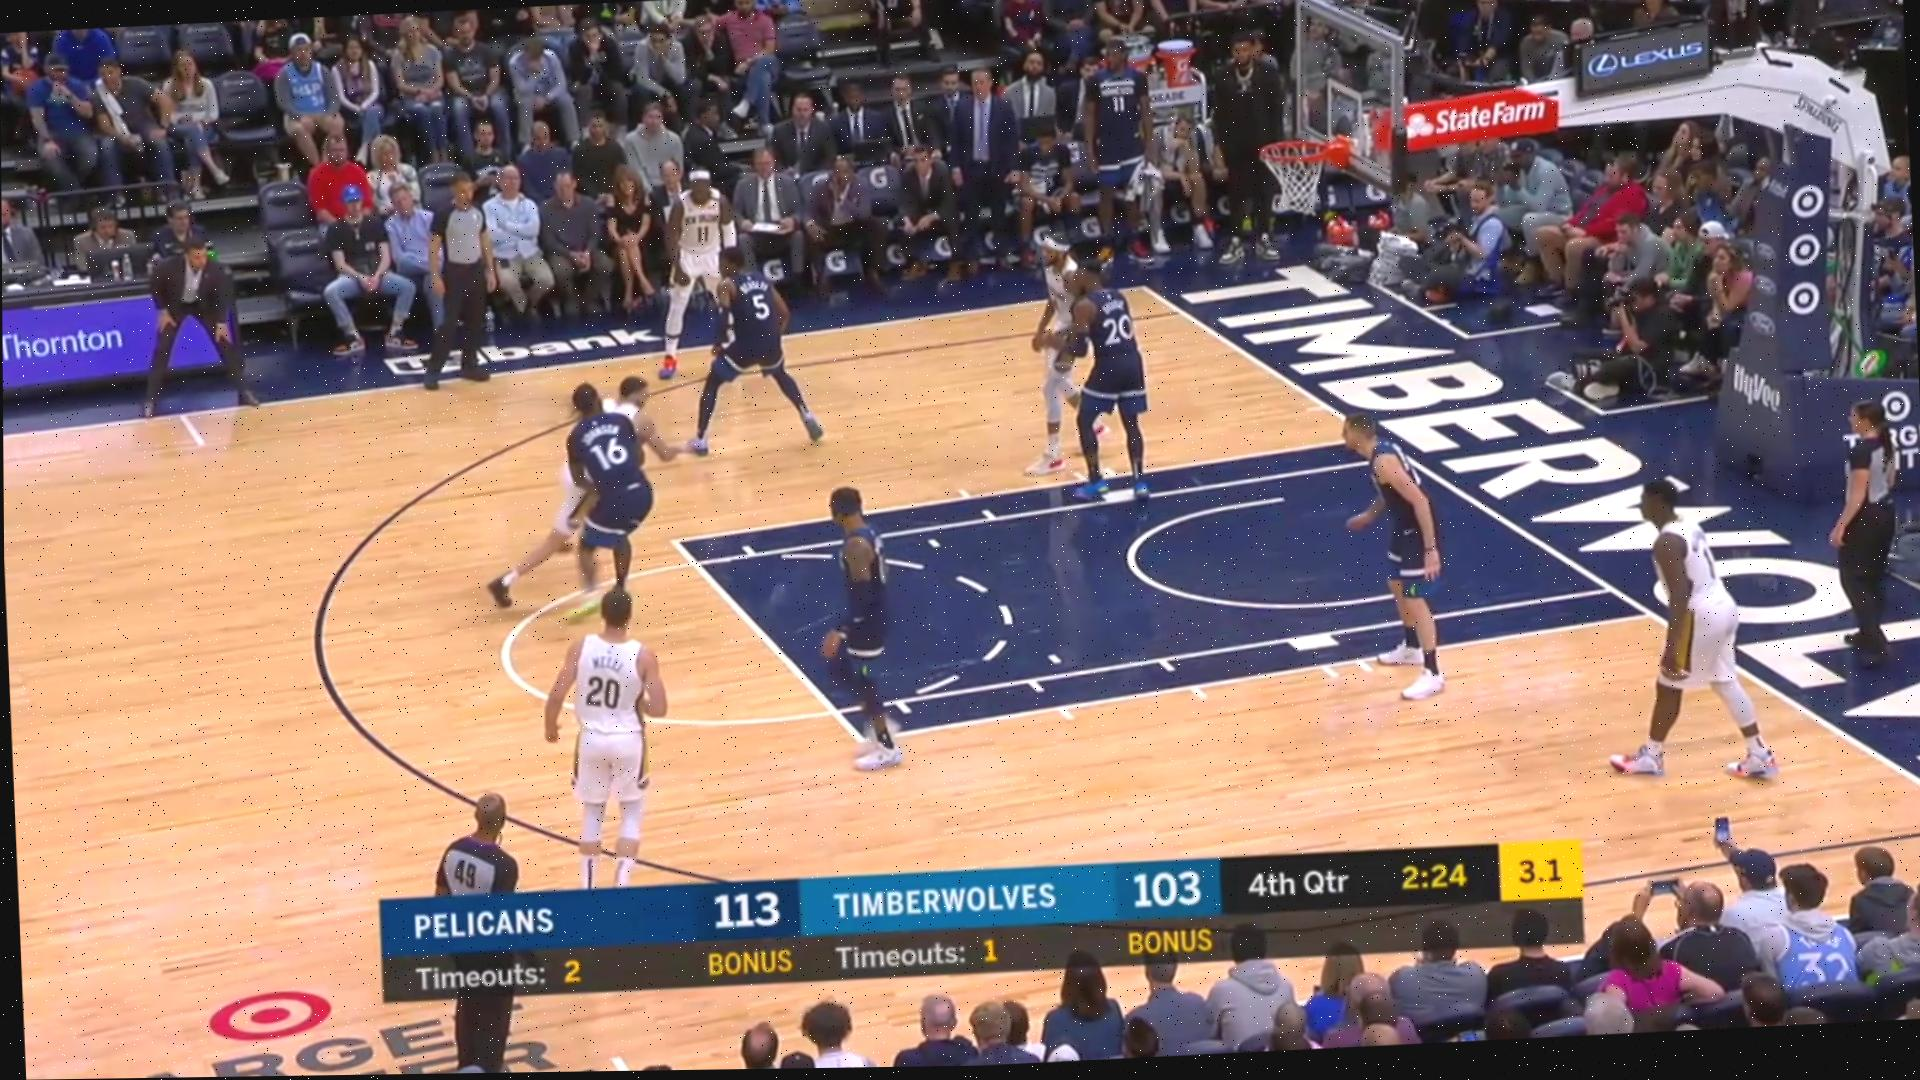no_foul: (535, 355, 670, 583)
